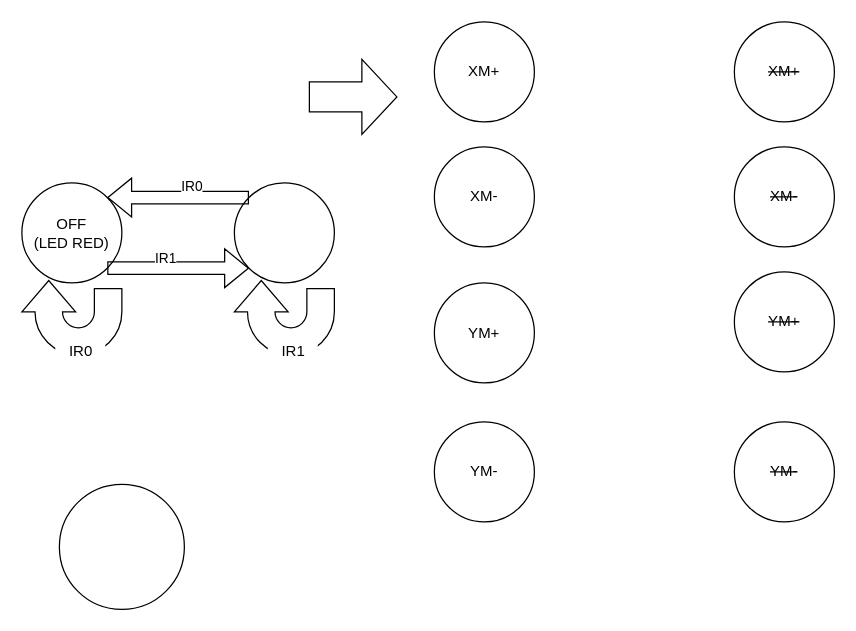
The diagram is 856 pixels wide and 631 high, and some of its shapes have lost their labels. The box of each missing label's shape, as (x1, y1, x2, y2) in pixels:
LIMITHIT (LED YELLOW): (58, 483, 184, 609)
ON (LED GREEN): (233, 182, 334, 283)
